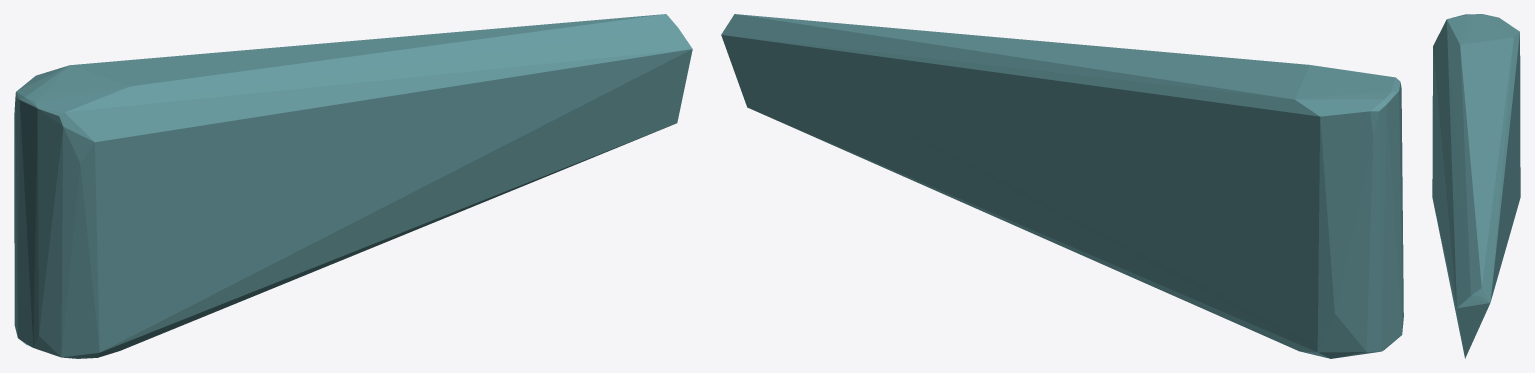
The model's file is handTool_hammer_deadBlow_a01.glb.
3 renders of one model, left to right at view 1: azimuth 30°, elevation 25°; view 2: azimuth 150°, elevation 25°; view 3: azimuth 270°, elevation 25°, orthographic. The views are drawn at different scales.
Parts seen in each view (by area): view 1: geometry_0; view 2: geometry_0; view 3: geometry_0.
Boxes of the visible parts, x1=… form: geometry_0: x1=14, y1=14, x2=692, y2=358; geometry_0: x1=721, y1=14, x2=1403, y2=358; geometry_0: x1=1432, y1=14, x2=1520, y2=358.
Size of the model in its own units: 0.4759 by 0.1727 by 0.0782.
